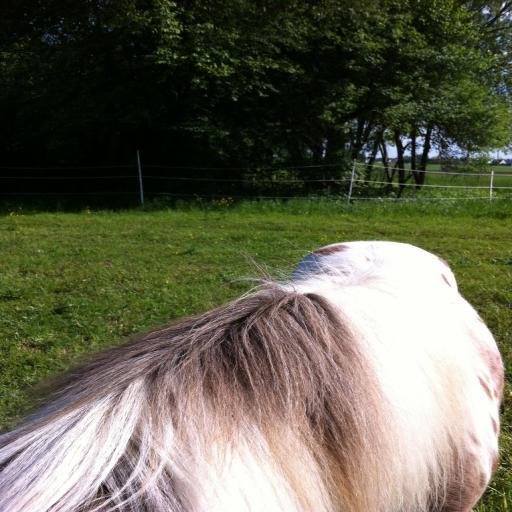horse: (0, 241, 505, 512)
